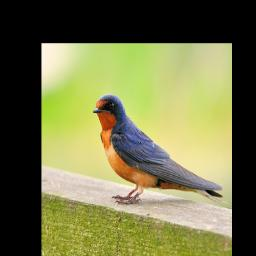Swallow: (90, 90, 224, 212)
